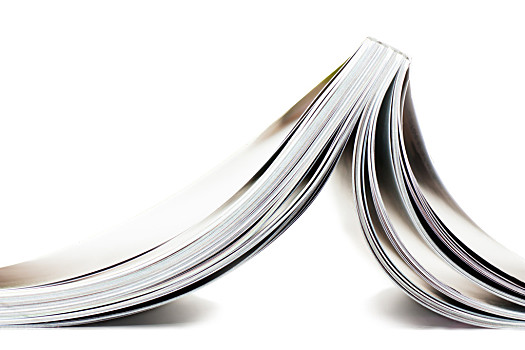book: (3, 37, 522, 327)
